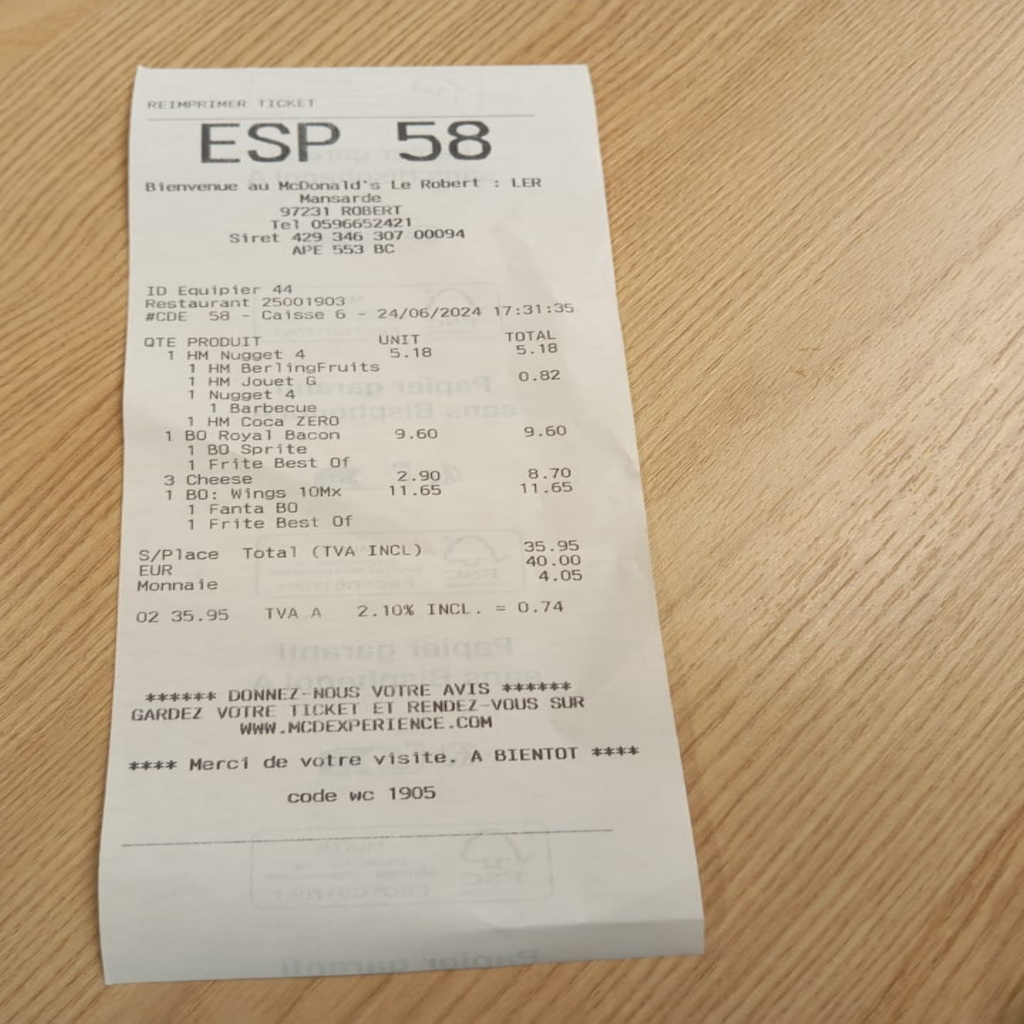recipt: (97, 57, 707, 978)
